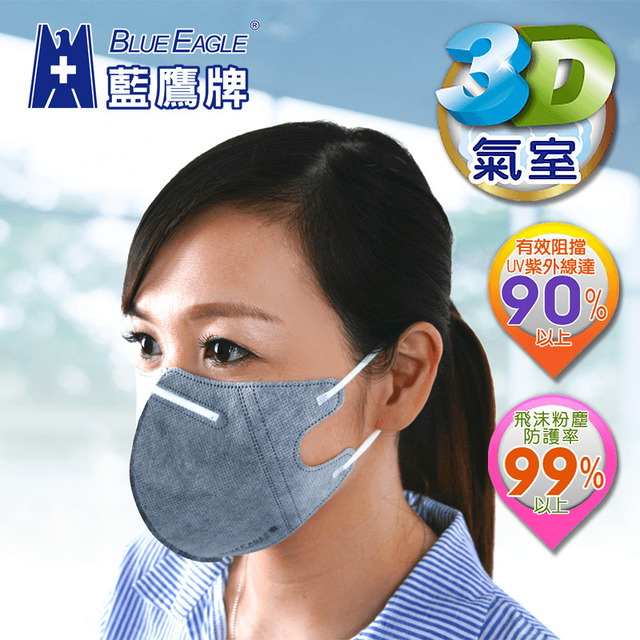mask: (115, 372, 336, 533)
